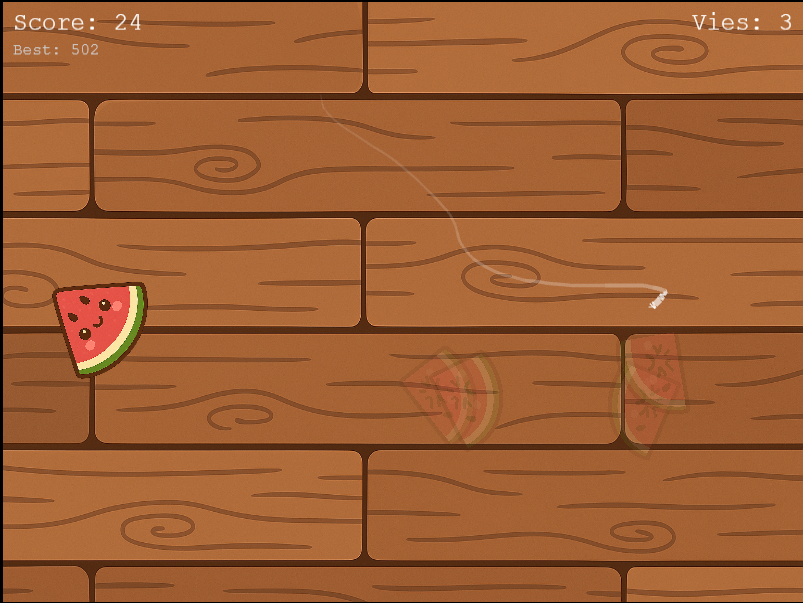fruit: (43, 272, 153, 382)
